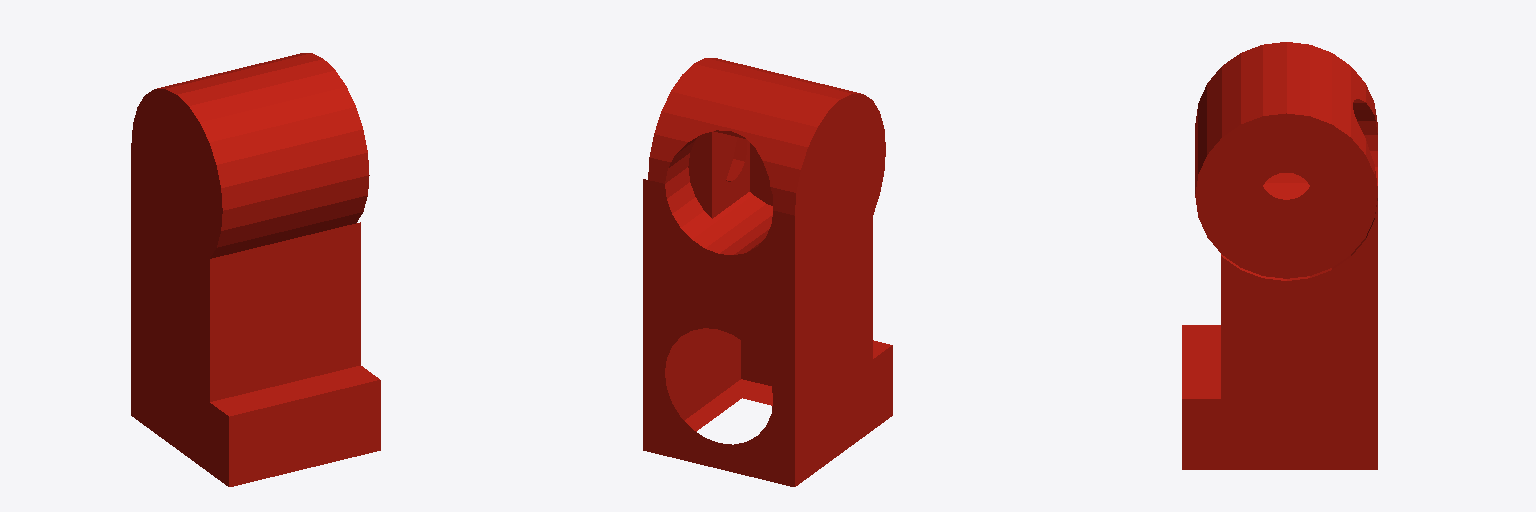
File: PIERNADER.obj
The picture shows the model from 3 angles: view 1: azimuth 30°, elevation 25°; view 2: azimuth 150°, elevation 25°; view 3: azimuth 270°, elevation 25°; orthographic projection.
Visible parts, largest first — view 1: PIERNA_DER_ID392_BLUE; view 2: PIERNA_DER_ID392_BLUE; view 3: PIERNA_DER_ID392_BLUE.
Boxes of the visible parts, x1,y1,x2,y2 form: PIERNA_DER_ID392_BLUE: [131, 53, 380, 486]; PIERNA_DER_ID392_BLUE: [643, 58, 892, 486]; PIERNA_DER_ID392_BLUE: [1182, 42, 1377, 469].
Size of the model in its own units: 0.7242 by 1.62 by 0.8107.